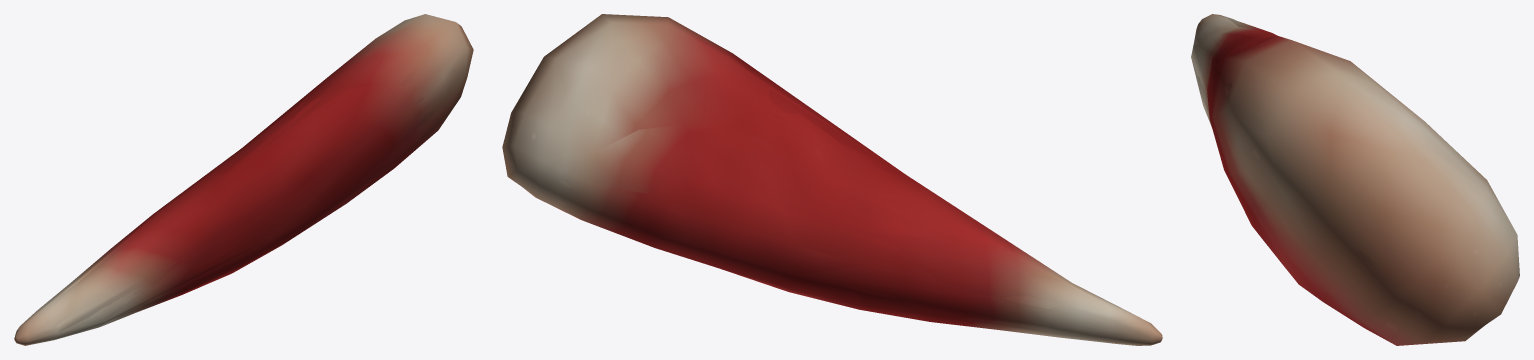
Rendered from R Gluteus profundus.fbx.
3 renders of one model, left to right at view 1: azimuth 30°, elevation 25°; view 2: azimuth 150°, elevation 25°; view 3: azimuth 270°, elevation 25°, orthographic. The views are drawn at different scales.
Parts seen in each view (by area): view 1: R Gluteus profundus, R Gluteus profundus low, R Gluteus profundus high; view 2: R Gluteus profundus, R Gluteus profundus low, R Gluteus profundus high; view 3: R Gluteus profundus, R Gluteus profundus low, R Gluteus profundus high.
Part boxes in pixels (left/top/right/bottom): R Gluteus profundus: left=14, top=14, right=473, bottom=345; R Gluteus profundus low: left=26, top=15, right=471, bottom=345; R Gluteus profundus high: left=16, top=28, right=455, bottom=341; R Gluteus profundus: left=502, top=14, right=1162, bottom=345; R Gluteus profundus low: left=503, top=14, right=1145, bottom=326; R Gluteus profundus high: left=510, top=19, right=1157, bottom=342; R Gluteus profundus: left=1191, top=14, right=1519, bottom=345; R Gluteus profundus low: left=1191, top=16, right=1515, bottom=344; R Gluteus profundus high: left=1200, top=21, right=1502, bottom=330.
Size of the model in its own units: 1.29 by 0.4986 by 0.3984.
